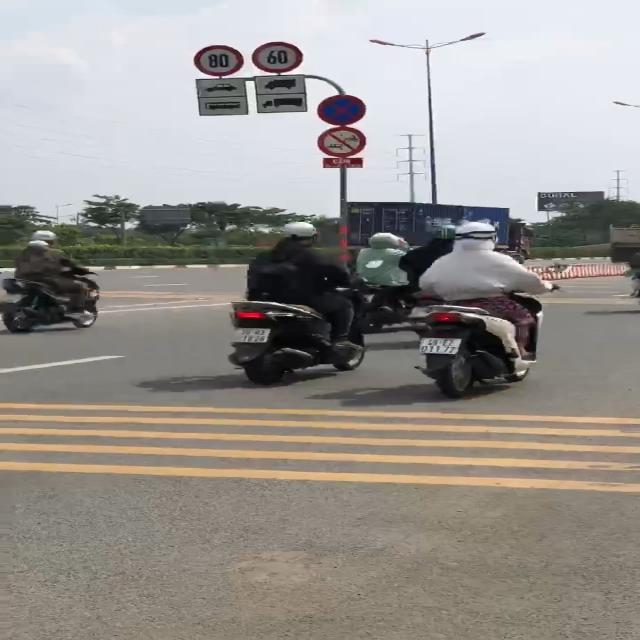Bien bao cam dung xe va do xe: (311, 92, 376, 125)
Bien bao toc do toi da cho phep: (244, 40, 311, 76), (188, 42, 248, 78)
